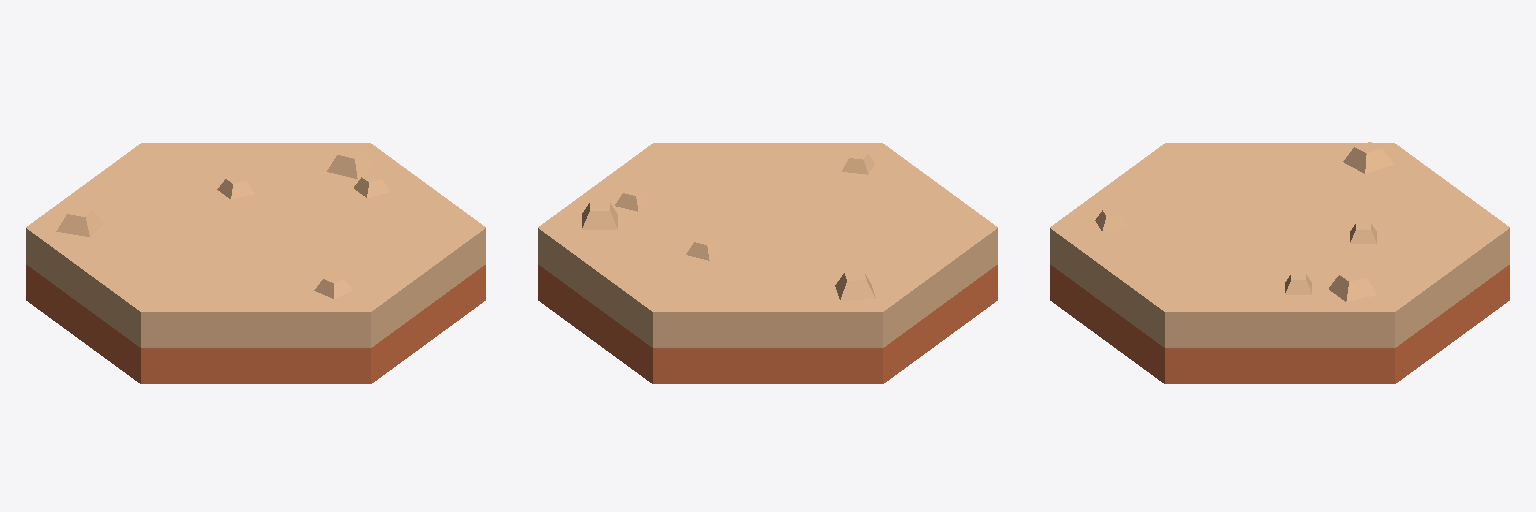
File: sand_rocks.obj
3 views of the same model, side by side, from view 1: azimuth 30°, elevation 25°; view 2: azimuth 150°, elevation 25°; view 3: azimuth 270°, elevation 25° (orthographic).
Parts seen in each view (by area): view 1: sand_rocks, rock; view 2: sand_rocks, rock; view 3: sand_rocks, rock.
Part boxes in pixels (x1,y1,x2,y2): sand_rocks: (26,143,485,383); rock: (56,147,389,298); sand_rocks: (538,143,997,383); rock: (582,152,875,300); sand_rocks: (1050,143,1509,383); rock: (1095,142,1393,301).
Size of the model in its own units: 1 by 0.2435 by 1.15.